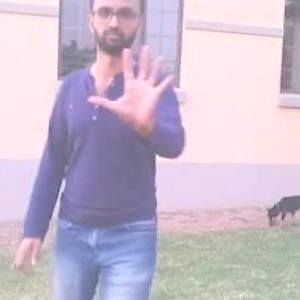follow_hand: (88, 38, 180, 128)
